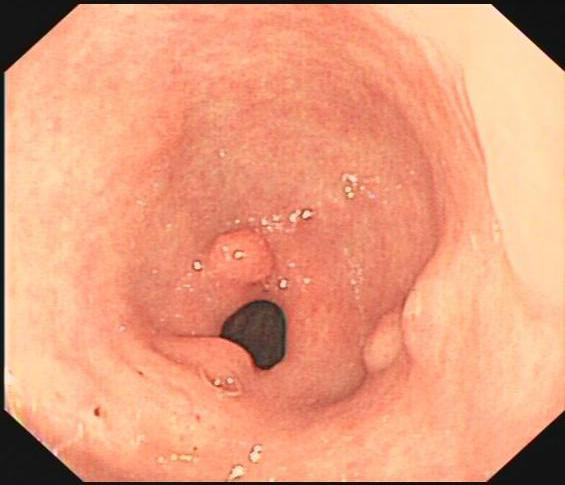Polyp: (210, 224, 277, 286)
